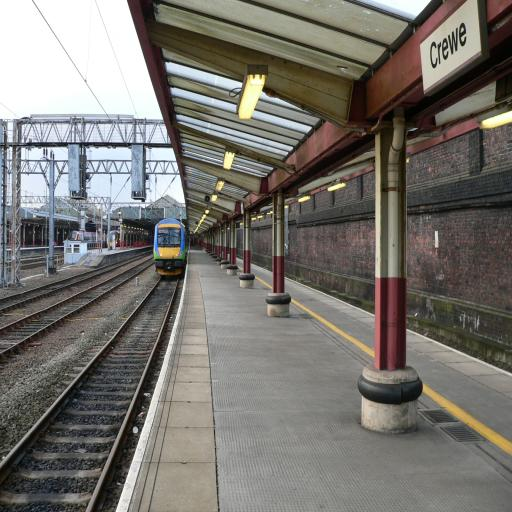platform_edge: (123, 281, 231, 512)
